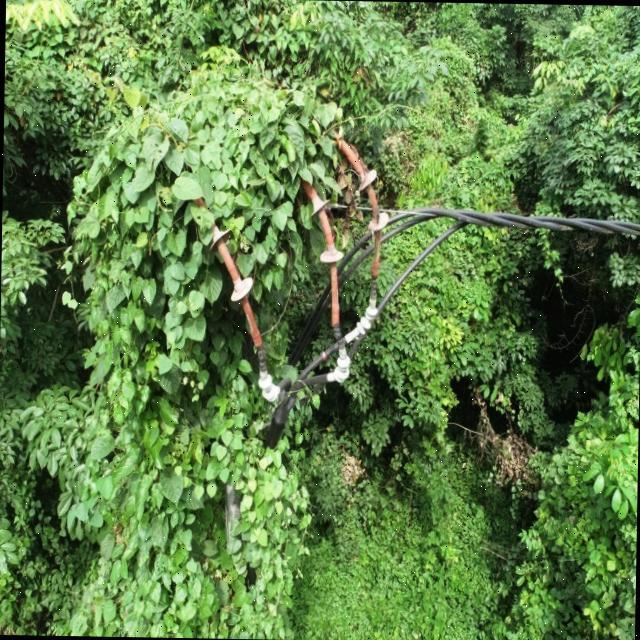critical vegetation: (72, 57, 354, 572)
